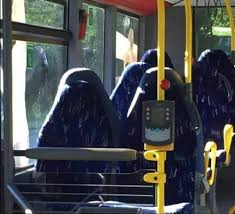seat: (195, 70, 232, 169)
